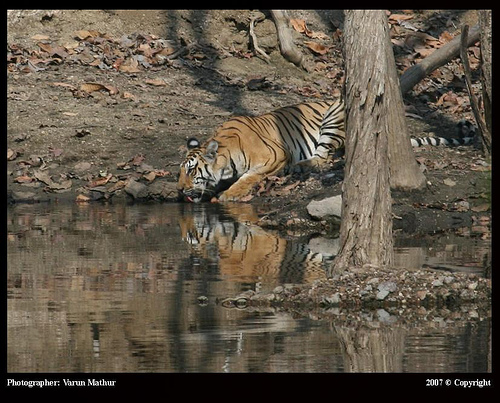Tigre: (177, 97, 351, 201)
